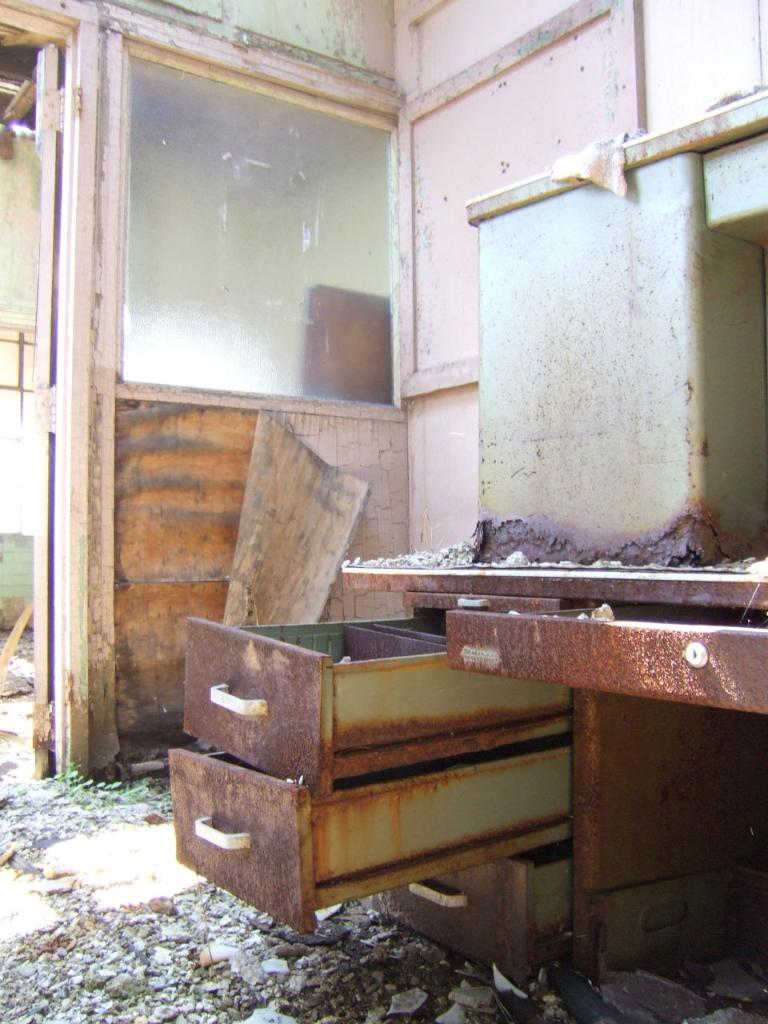cabinet door: (451, 622, 755, 703), (176, 767, 312, 909), (185, 630, 334, 755), (408, 879, 532, 960)
handle: (189, 806, 251, 863), (208, 686, 275, 722), (412, 885, 465, 924), (460, 649, 511, 676)
